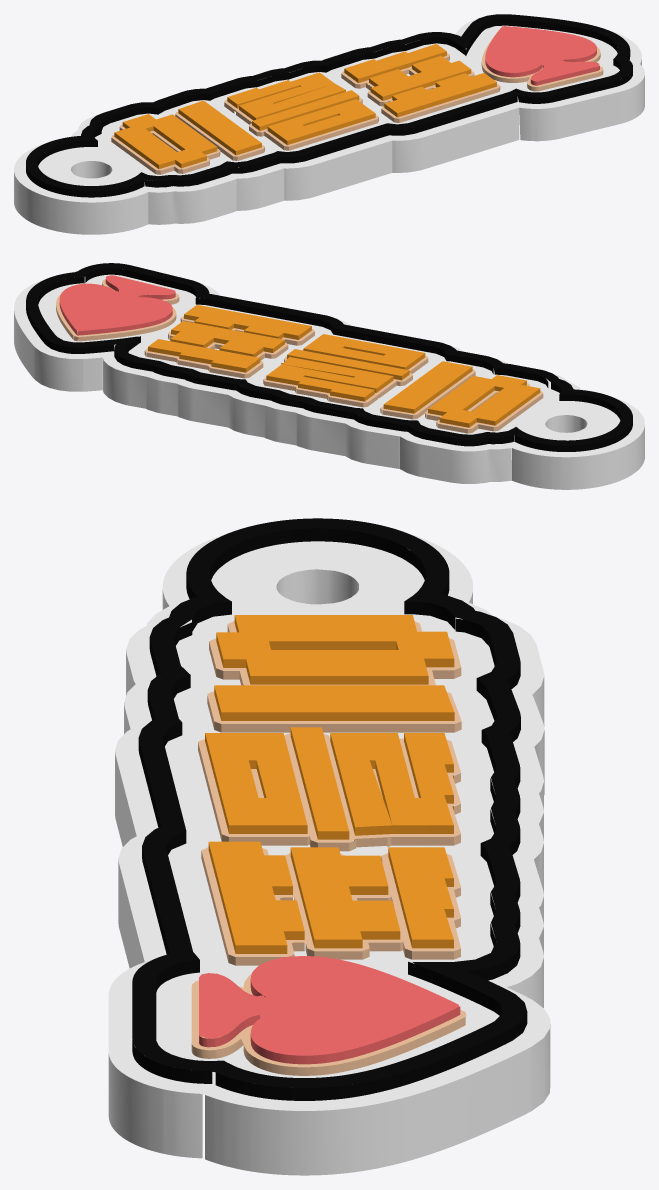
Rendered from gallery-4.glb.
The picture shows the model from 3 angles, top to bottom: view 1: azimuth 30°, elevation 25°; view 2: azimuth 150°, elevation 25°; view 3: azimuth 270°, elevation 25°; orthographic projection. The views are drawn at different scales.
Bounding box in the file's own units: 58.81 × 3.8 × 18.62.
